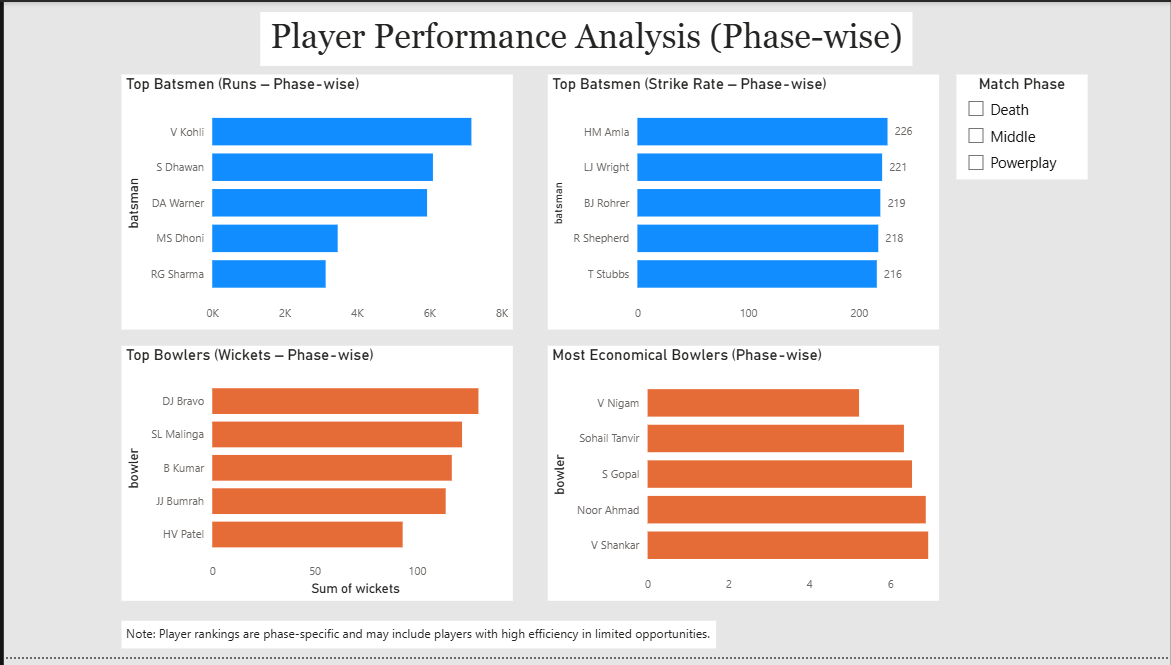

Layout of this report page (visuals, bound fields, positions):
{"tool":"powerbi","page":{"name":"Player Performance Analysis","canvas":[1280,720],"ordinal":2},"visuals":[{"type":"clusteredBarChart","title":"Top Batsmen (Runs – Phase-wise)","fields":{"Y":["Sum(BatRuns.total_runs)"],"Category":["BatRuns.batsman"]},"box":[129,79.6,429.5,279.9],"z":0},{"type":"clusteredBarChart","title":"Top Batsmen (Strike Rate – Phase-wise)","fields":{"Category":["BatSR.batsman"],"Y":["Avg(BatSR.strike_rate)"]},"box":[596.9,79.6,429.5,279.9],"z":1000},{"type":"clusteredBarChart","title":"Top Bowlers (Wickets – Phase-wise)","fields":{"Category":["BowlWkts.bowler"],"Y":["Sum(BowlWkts.wickets)"]},"box":[129,377.4,429.5,280],"z":2000},{"type":"clusteredBarChart","title":"Most Economical Bowlers (Phase-wise)","fields":{"Category":["BowlEcon.bowler"],"Y":["Sum(BowlEcon.economy)"]},"box":[596.9,377.4,429.5,280],"z":3000},{"type":"slicer","title":"Match Phase","fields":{"Values":["BowlEcon.phase"]},"box":[1045.6,79.6,144.1,115.3],"z":4000},{"type":"textbox","box":[129,679.2,653.2,30.2],"z":5000},{"type":"textbox","box":[281.9,11,716.3,59],"z":6000}]}

Visuals, with their boxes in screenshot pixels (x1, y1, x2, y2), scaled from the page's 1280x720 canvas onto the 1171x665 screenshot:
"Top Batsmen (Runs – Phase-wise)" clusteredBarChart: <bbox>118, 74, 511, 332</bbox>
"Top Batsmen (Strike Rate – Phase-wise)" clusteredBarChart: <bbox>546, 74, 939, 332</bbox>
"Top Bowlers (Wickets – Phase-wise)" clusteredBarChart: <bbox>118, 349, 511, 607</bbox>
"Most Economical Bowlers (Phase-wise)" clusteredBarChart: <bbox>546, 349, 939, 607</bbox>
"Match Phase" slicer: <bbox>957, 74, 1088, 180</bbox>
textbox: <bbox>118, 627, 716, 655</bbox>
textbox: <bbox>258, 10, 913, 65</bbox>
